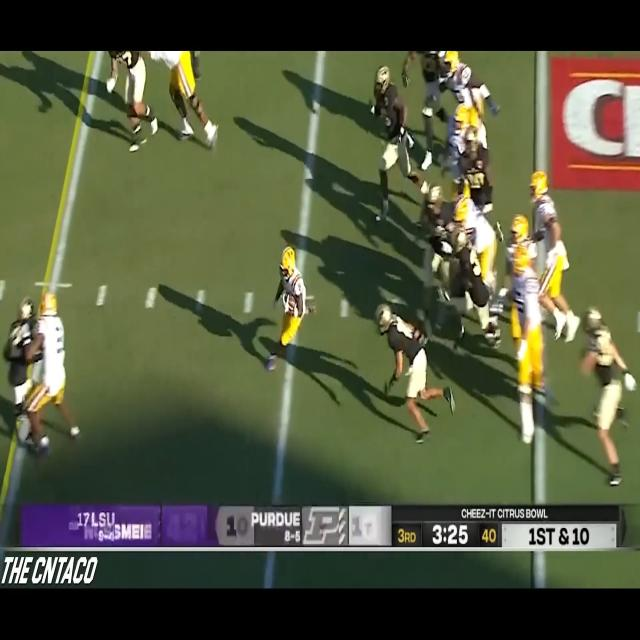players: (376, 302, 446, 442), (532, 167, 586, 347), (581, 306, 636, 480), (511, 242, 551, 456), (449, 219, 506, 369), (366, 64, 416, 224), (34, 296, 78, 456), (2, 298, 40, 450), (421, 177, 455, 333), (441, 108, 491, 212), (445, 52, 500, 138), (278, 249, 314, 363)
